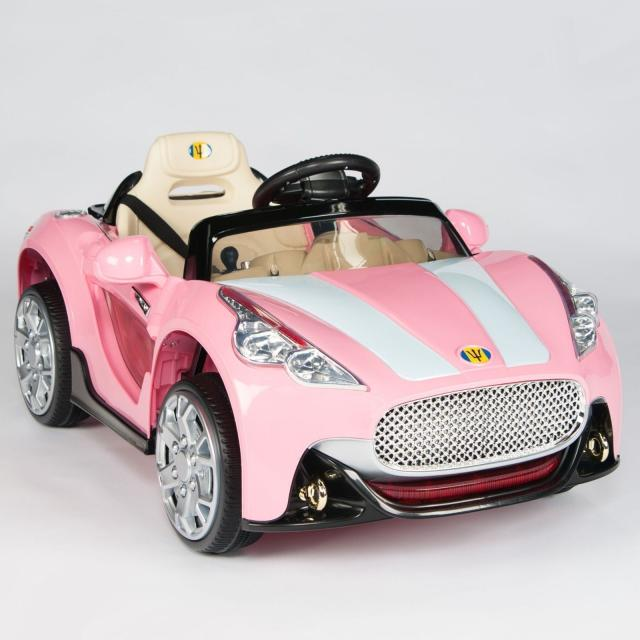Car: (13, 130, 623, 556)
